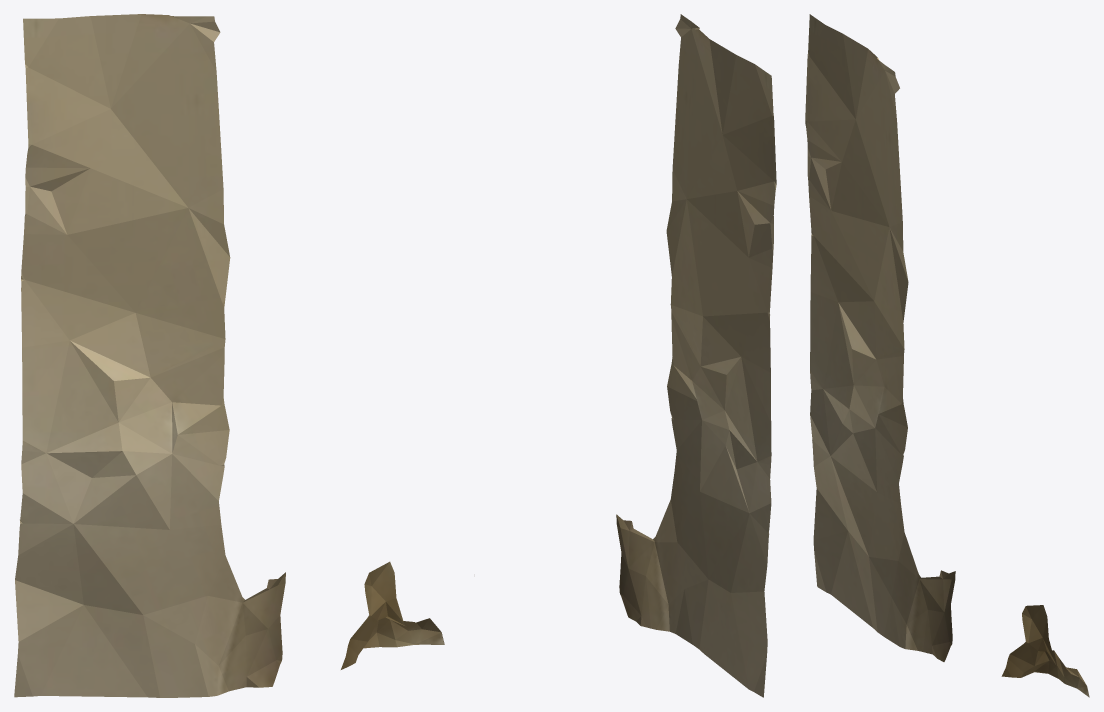
3 renders of one model, left to right at view 1: azimuth 30°, elevation 25°; view 2: azimuth 150°, elevation 25°; view 3: azimuth 330°, elevation 25°, orthographic. The views are drawn at different scales.
Size of the model in its own units: 0.9638 by 1.67 by 0.2393.
1 material, 1 textured.
